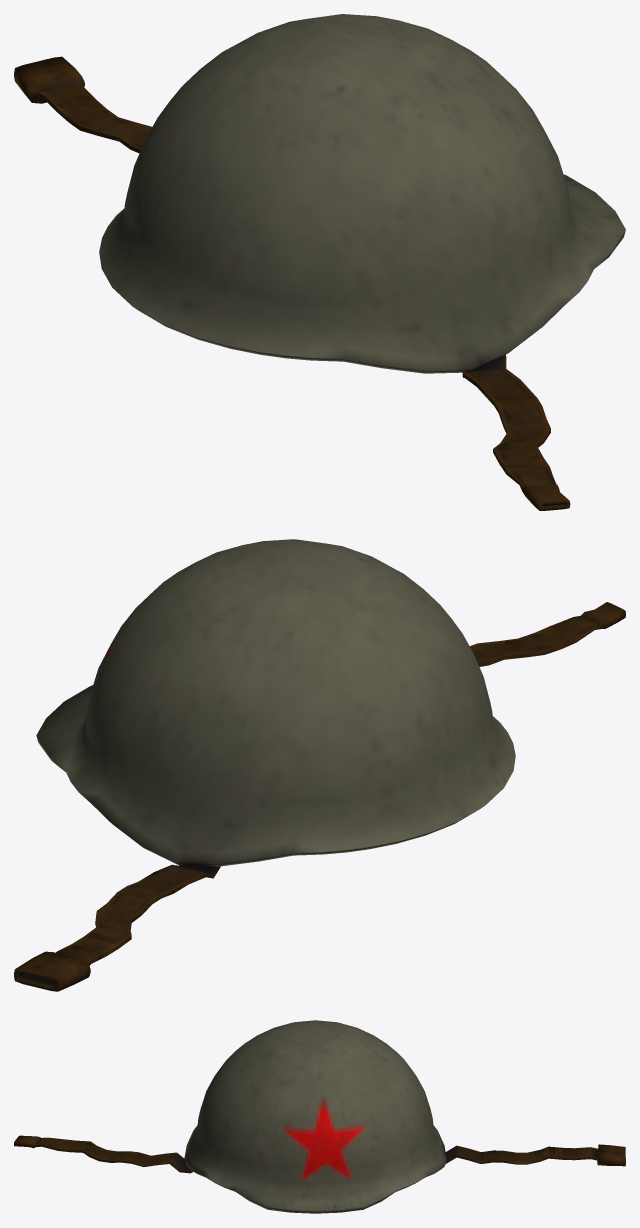
The model's file is SM_russian_soviet_helmet.glb.
3 views of the same model, one above another, from view 1: azimuth 30°, elevation 25°; view 2: azimuth 150°, elevation 25°; view 3: azimuth 270°, elevation 25° (orthographic). The views are drawn at different scales.
Parts seen in each view (by area): view 1: SM_russian_soviet_helmet; view 2: SM_russian_soviet_helmet; view 3: SM_russian_soviet_helmet.
Boxes of the visible parts, x1=… form: SM_russian_soviet_helmet: x1=14, y1=14, x2=625, y2=510; SM_russian_soviet_helmet: x1=14, y1=539, x2=625, y2=991; SM_russian_soviet_helmet: x1=14, y1=1020, x2=625, y2=1213.
Size of the model in its own units: 60.24 by 31.71 by 131.
1 material, 1 textured.
